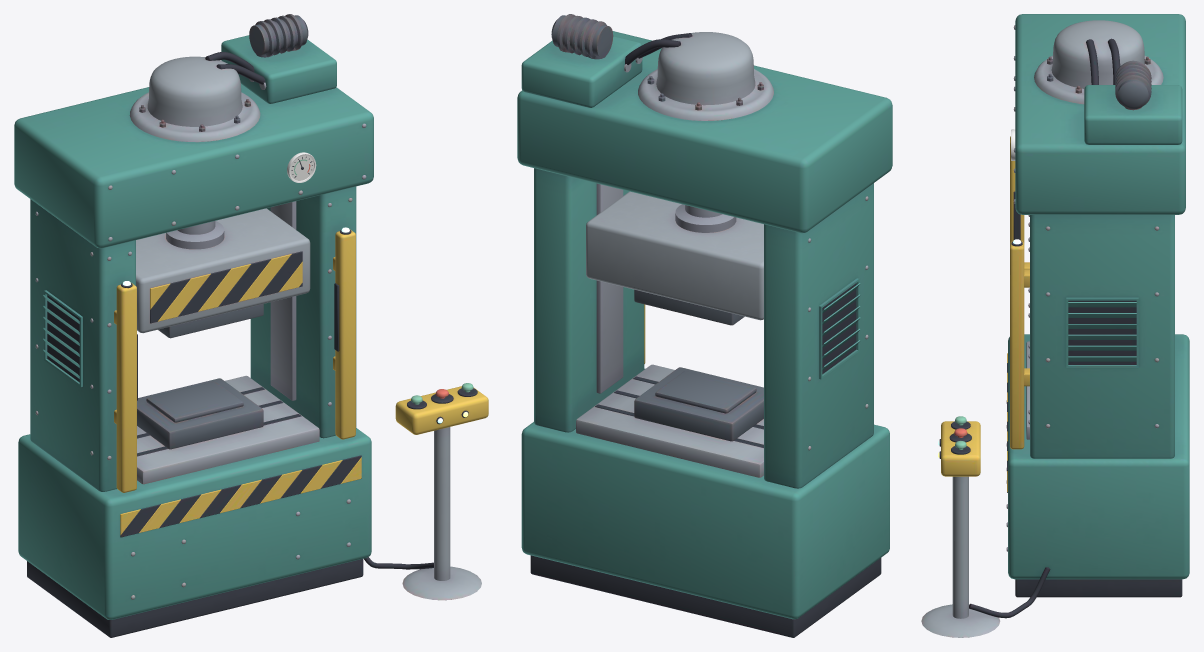
The model's file is hydraulic-press.glb.
3 views of the same model, side by side, from view 1: azimuth 30°, elevation 25°; view 2: azimuth 150°, elevation 25°; view 3: azimuth 270°, elevation 25° (orthographic). The views are drawn at different scales.
Parts seen in each view (by area): view 1: hydraulic-press_body, hydraulic-press_ram, hydraulic-press_pressure_gauge; view 2: hydraulic-press_body, hydraulic-press_ram; view 3: hydraulic-press_body.
Boxes of the visible parts, x1,y1,x2,y2 form: hydraulic-press_body: (14,14,488,637); hydraulic-press_ram: (136,208,310,338); hydraulic-press_pressure_gauge: (287,152,316,182); hydraulic-press_body: (517,14,892,637); hydraulic-press_ram: (586,191,763,325); hydraulic-press_body: (921,14,1189,637).
Bounding box in the file's own units: 2.24 × 3.14 × 1.48.
Materials: 9 (2 with a texture image).
